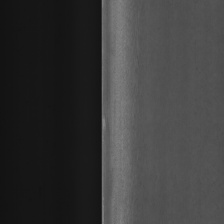silk_spot: (120, 15, 157, 206)
